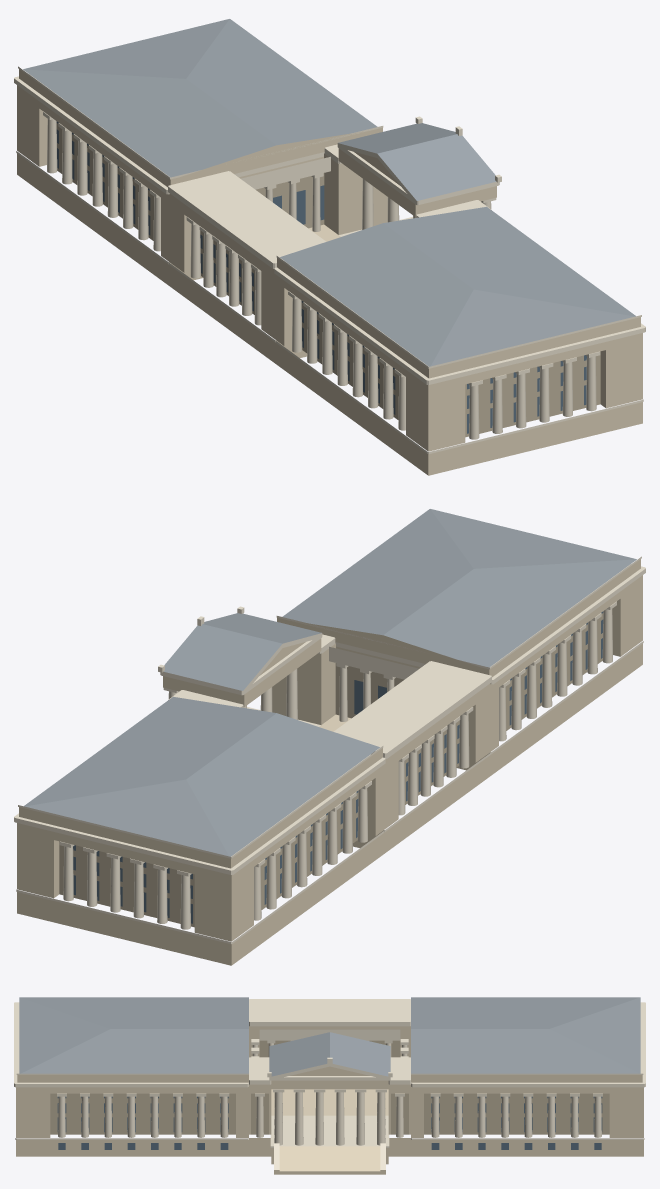
Rendered from nash-war-memorial-building.glb.
3 views of the same model, one above another, from view 1: azimuth 30°, elevation 25°; view 2: azimuth 150°, elevation 25°; view 3: azimuth 270°, elevation 25° (orthographic). The views are drawn at different scales.
Parts seen in each view (by area): view 1: War Memorial Building; view 2: War Memorial Building; view 3: War Memorial Building.
Part boxes in pixels (<box>): War Memorial Building: <box>14,19,645,475</box>; War Memorial Building: <box>14,509,645,965</box>; War Memorial Building: <box>14,997,645,1174</box>.
Size of the model in its own units: 43.9 by 22 by 118.
